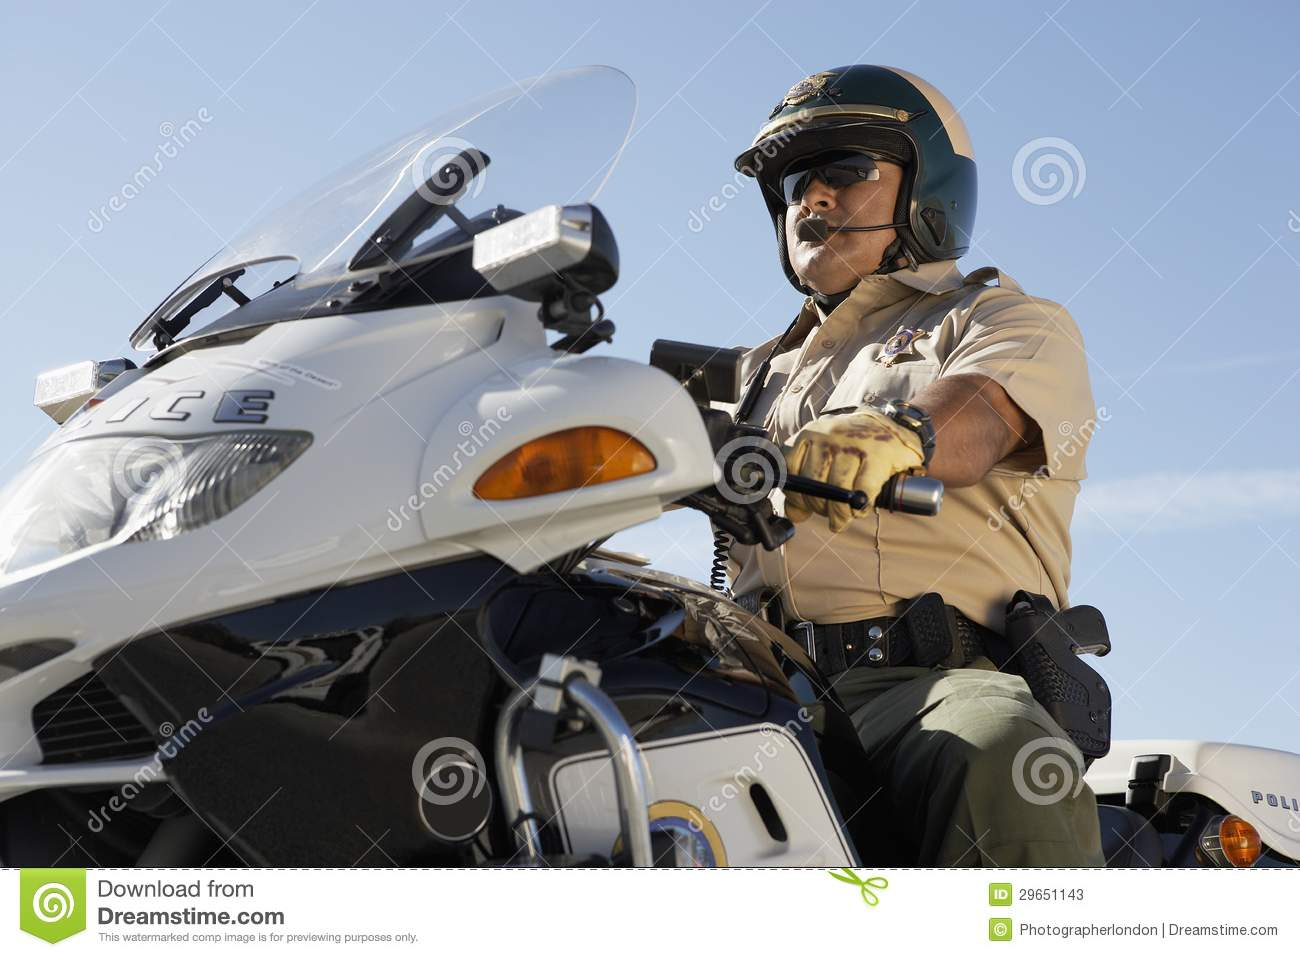helmet: (746, 69, 976, 257)
